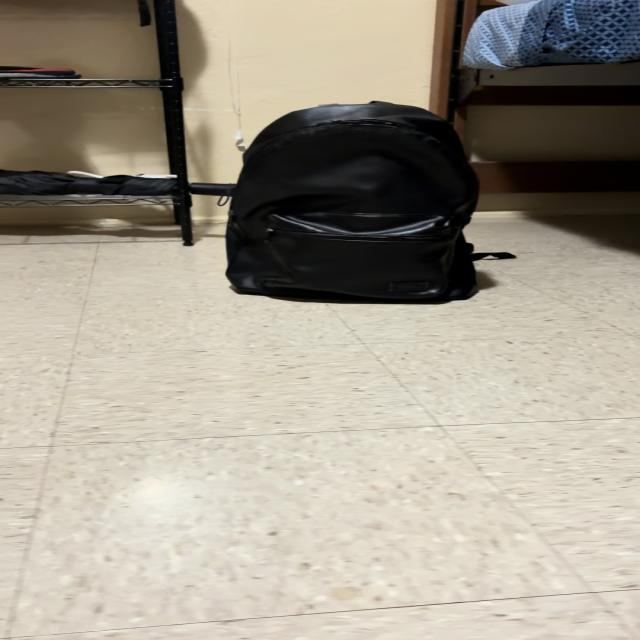backpack: (226, 102, 478, 300)
